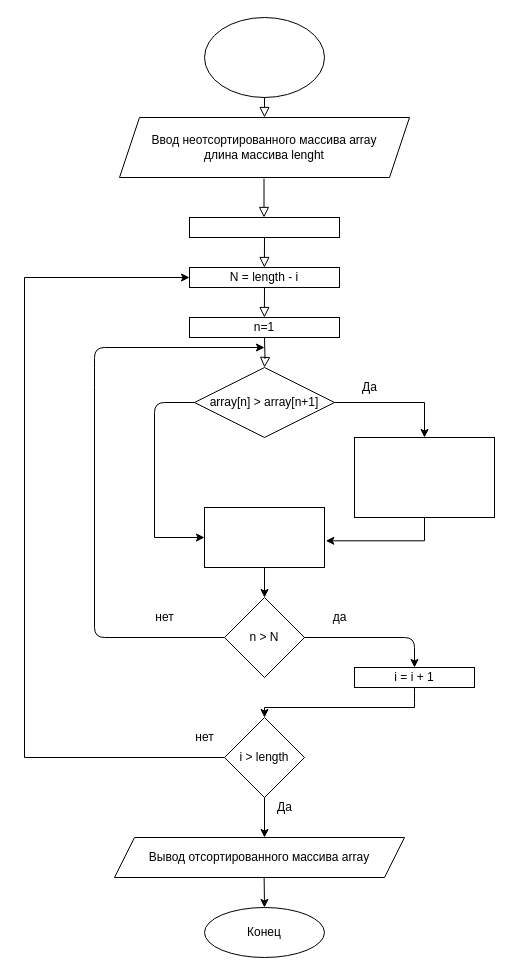
This 512x975 diagram has some shape labels left out. Here are the shapes that lost their labels. From the top down, the centre of each, then its label:
At point (264, 57): "Начало".
At point (264, 227): "i = 1".
At point (424, 477): "Меняем элементы местами: j = array[n+1]; array[n+1] = array[n]; array[n] = j".
At point (264, 537): "n = n + 1".
